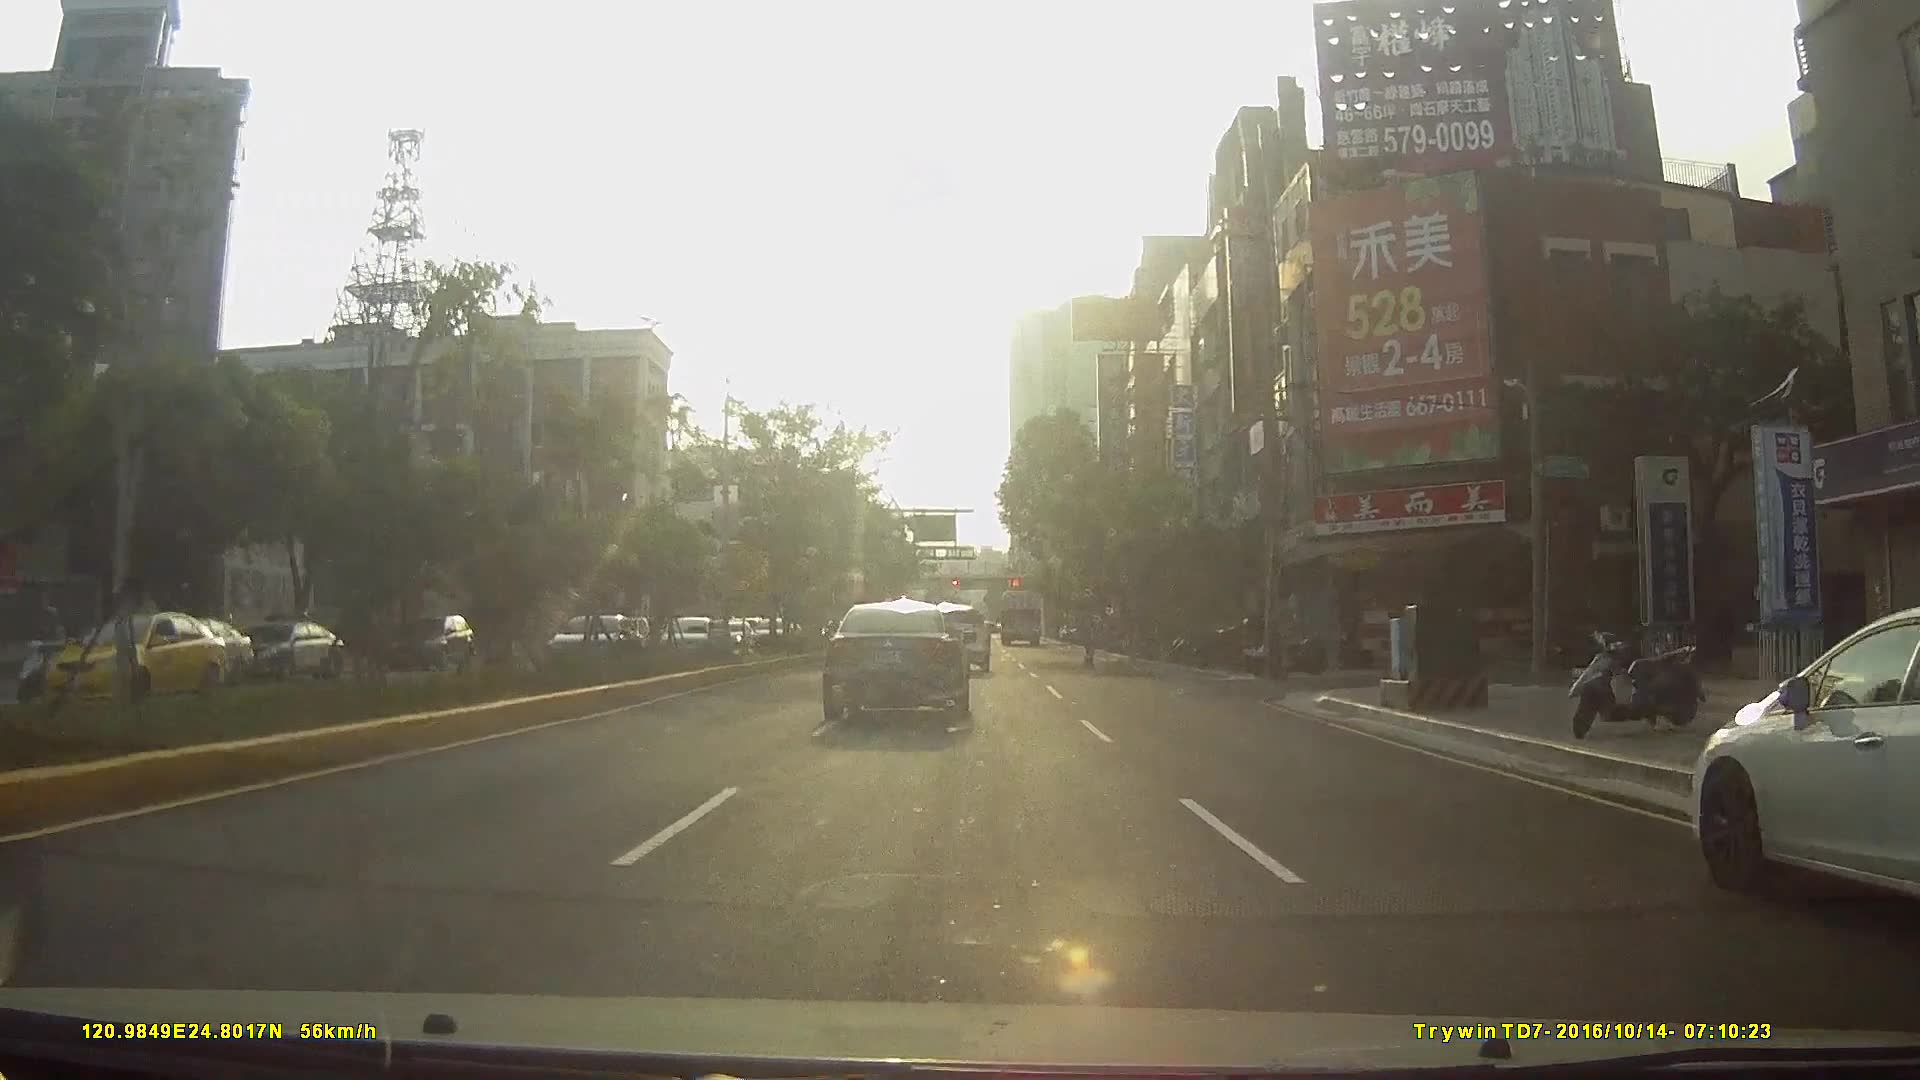vehicle: (1689, 617, 1920, 951), (42, 613, 224, 725), (820, 599, 971, 724), (127, 615, 247, 690), (223, 620, 339, 682), (535, 613, 640, 670), (378, 615, 473, 673), (653, 615, 724, 661), (997, 588, 1044, 650), (600, 620, 644, 659)
